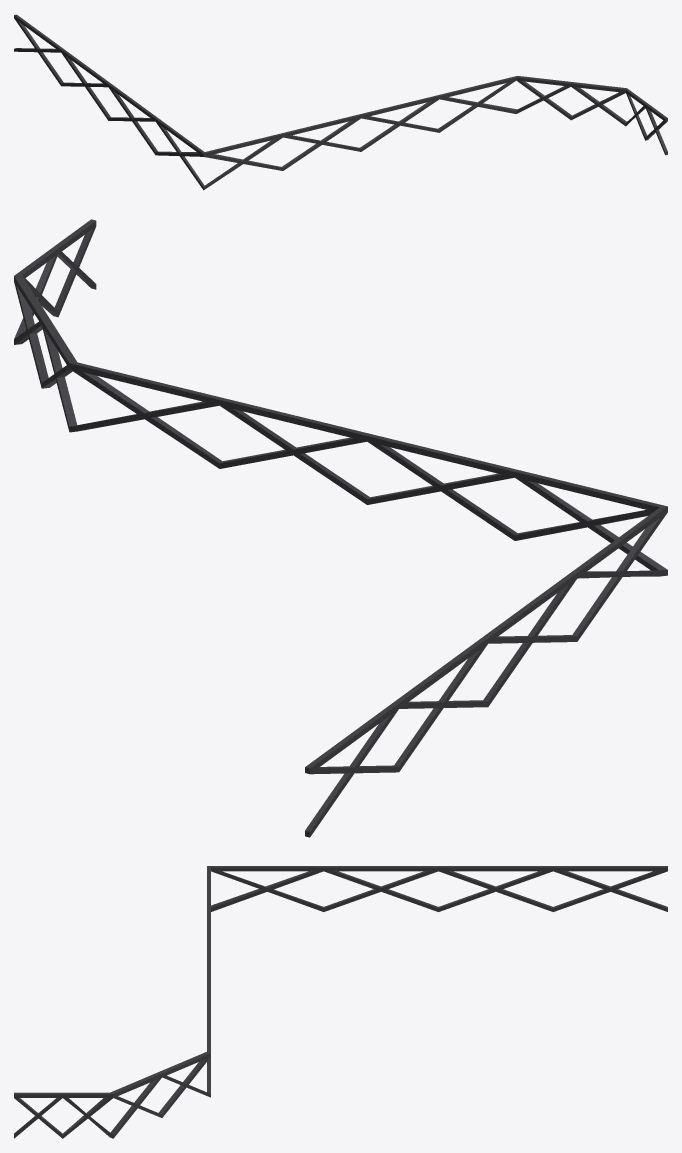
File: Storage_Railing.fbx
The picture shows the model from 3 angles, top to bottom: view 1: azimuth 30°, elevation 25°; view 2: azimuth 150°, elevation 25°; view 3: azimuth 270°, elevation 25°; orthographic projection. The views are drawn at different scales.
Parts seen in each view (by area): view 1: Storage_Railing; view 2: Storage_Railing; view 3: Storage_Railing.
Boxes of the visible parts, box(x1,y1,x2,y2) form: Storage_Railing: box(14, 14, 667, 190); Storage_Railing: box(14, 219, 667, 837); Storage_Railing: box(14, 866, 667, 1138).
Size of the model in its own units: 3323 by 302 by 4023.
